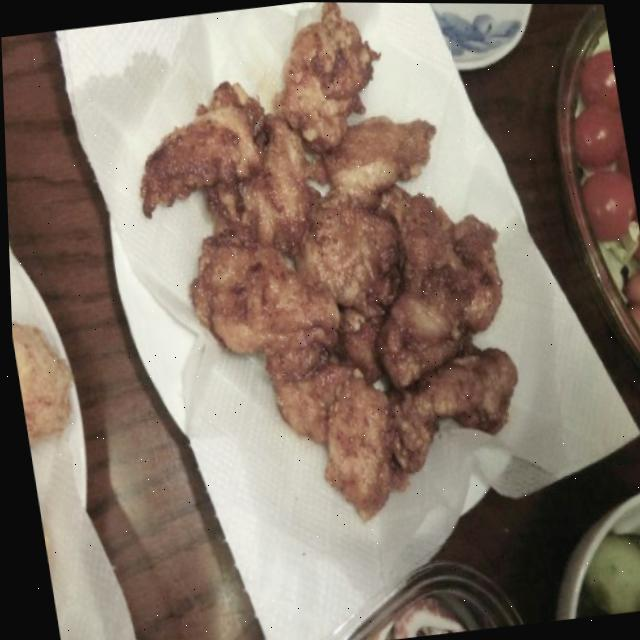鸡肉料理 含炸鸡: (123, 1, 546, 534)
